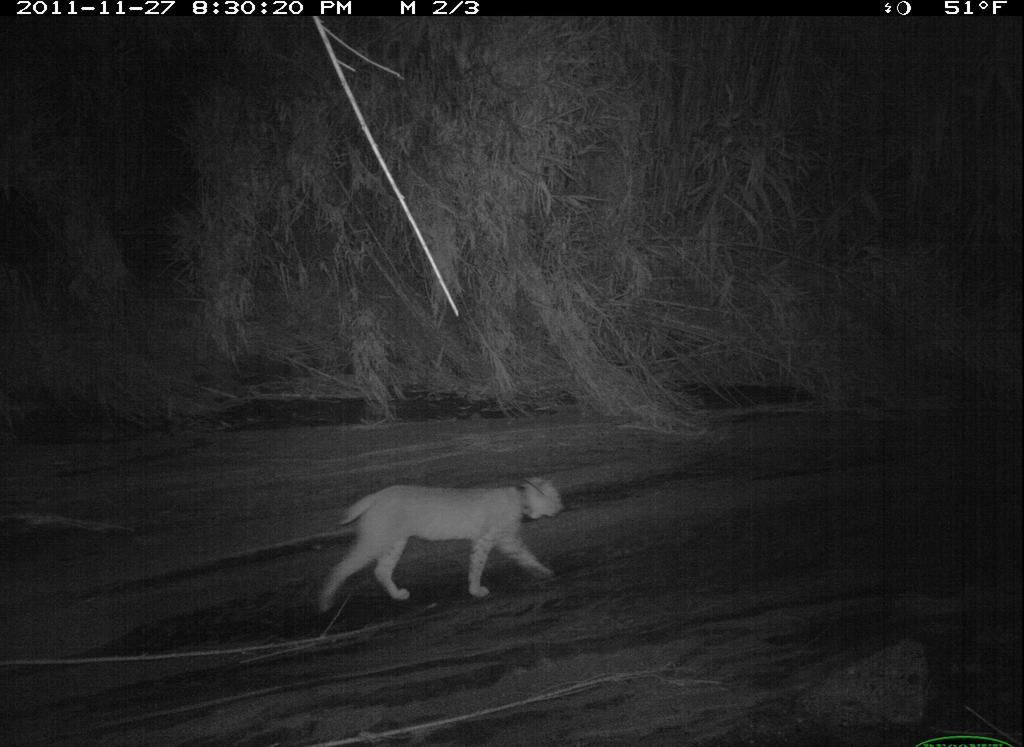bobcat: (310, 473, 582, 627)
